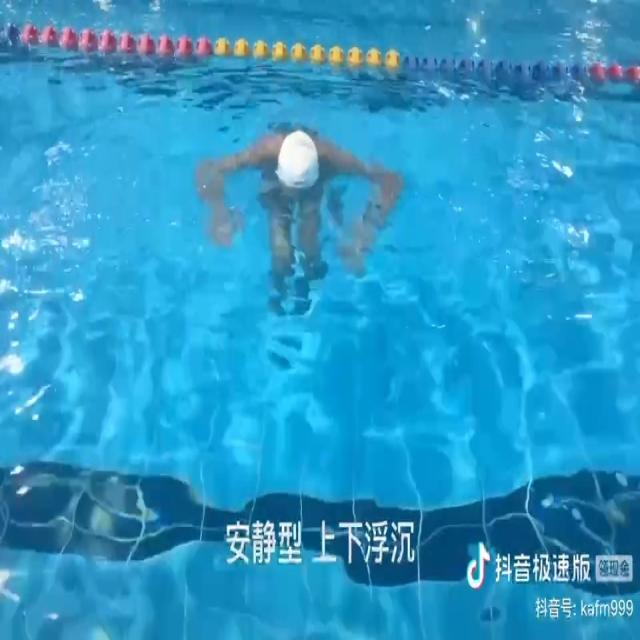Drowning: (194, 122, 403, 281)
